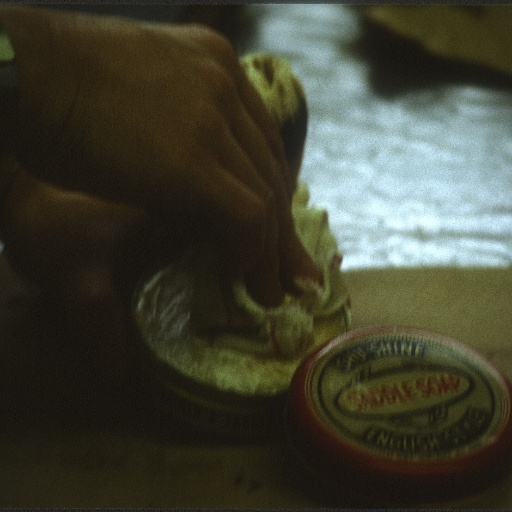hand: (18, 0, 357, 359), (0, 176, 184, 371)
